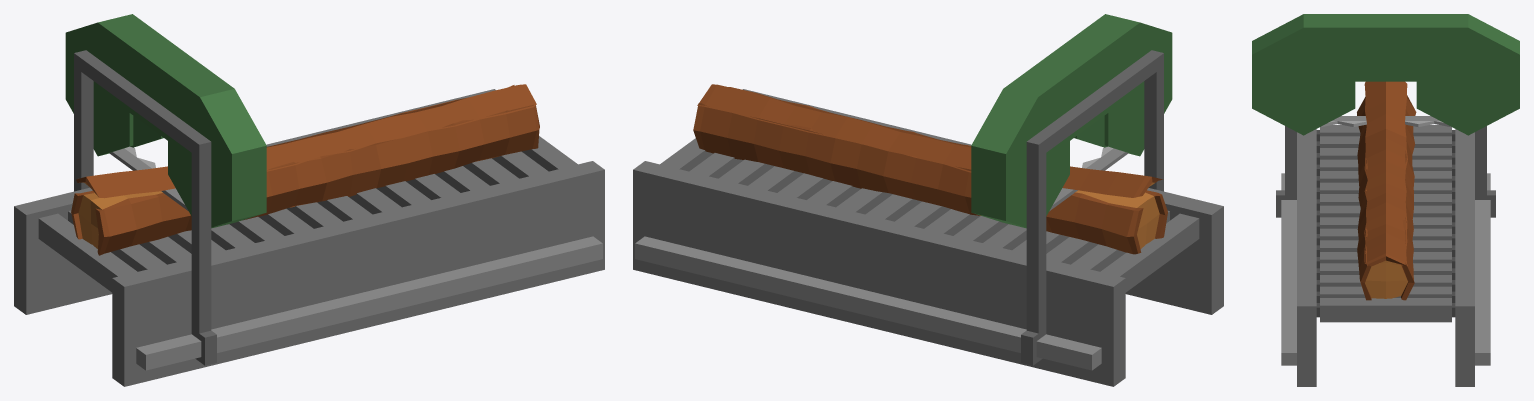
The model's file is Пила.fbx.
3 renders of one model, left to right at view 1: azimuth 30°, elevation 25°; view 2: azimuth 150°, elevation 25°; view 3: azimuth 270°, elevation 25°, orthographic. The views are drawn at different scales.
Visible parts, largest first — view 1: Куб, Куб.101, Куб.098, Куб.099; view 2: Куб, Куб.101, Куб.098, Куб.099; view 3: Куб, Куб.101, Куб.099, Куб.098.
Part boxes in pixels (box(x1,y1,x2,y2)): Куб: box(14, 89, 604, 386); Куб.101: box(65, 14, 266, 365); Куб.098: box(71, 85, 539, 255); Куб.099: box(76, 84, 536, 198); Куб: box(633, 89, 1223, 386); Куб.101: box(971, 14, 1172, 365); Куб.098: box(693, 87, 1167, 254); Куб.099: box(697, 84, 1163, 197); Куб: box(1281, 125, 1490, 386); Куб.101: box(1252, 14, 1519, 217); Куб.099: box(1364, 81, 1407, 266); Куб.098: box(1357, 95, 1416, 300).
Bounding box in the file's own units: 3431 × 1824 × 2055.
